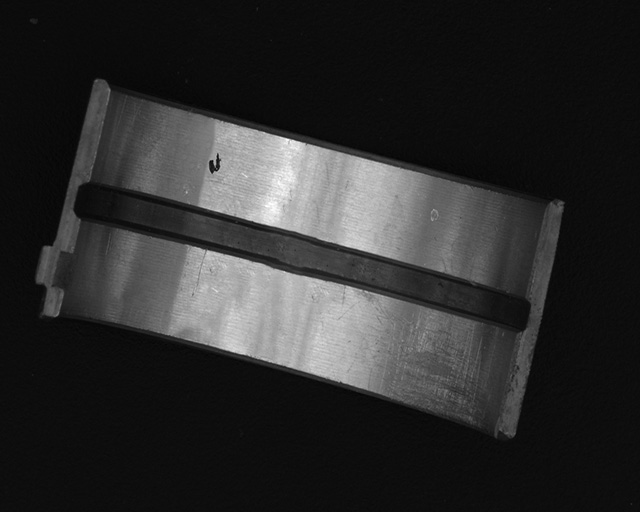blot: (206, 151, 223, 174)
bruise: (428, 208, 439, 223)
gap: (74, 182, 529, 329)
nick: (190, 247, 205, 298)
scratch: (353, 289, 491, 428)
